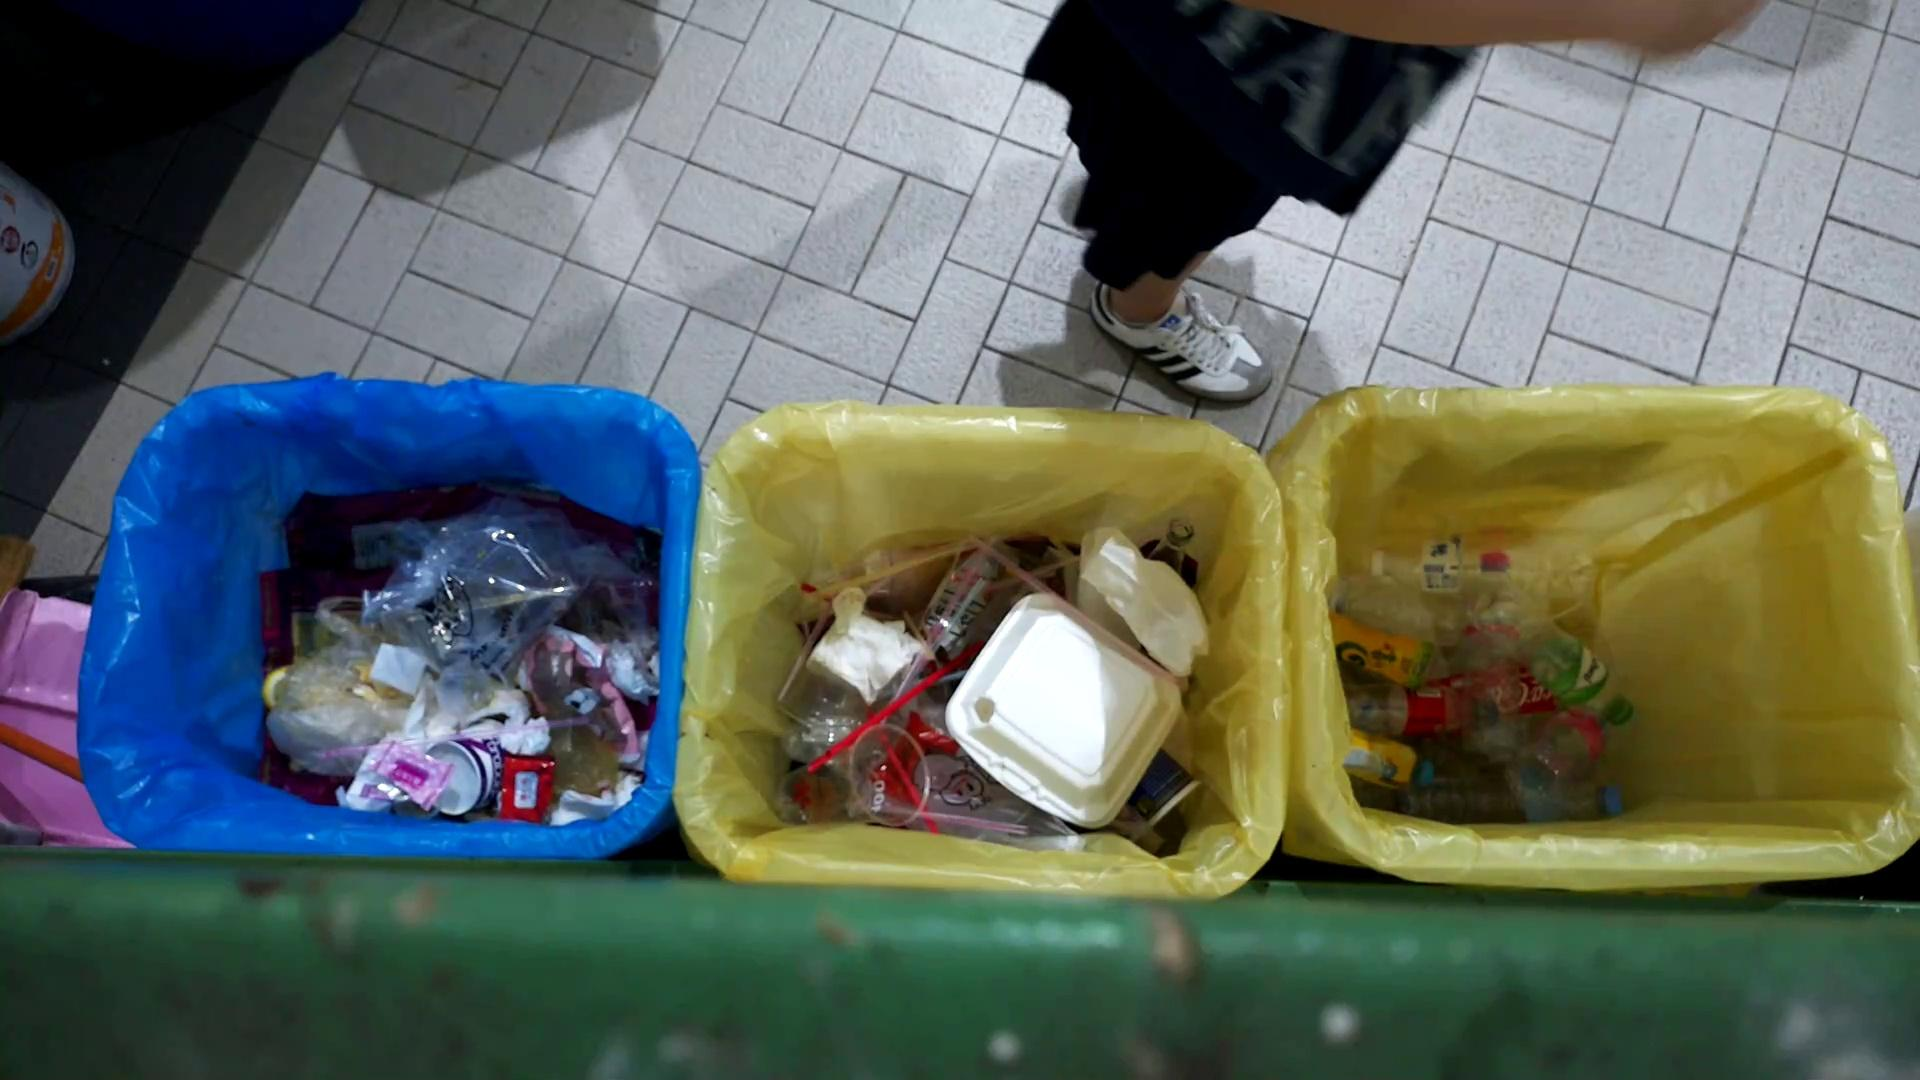filled plastic bag: (360, 498, 607, 683)
food container: (944, 593, 1184, 832), (413, 727, 509, 819)
plastic bag: (260, 592, 418, 777), (514, 620, 620, 737)
plastic bottle: (1453, 572, 1643, 724), (1365, 533, 1604, 600), (1447, 546, 1523, 749), (1486, 707, 1617, 799), (1324, 611, 1437, 690), (1344, 682, 1460, 737), (1345, 727, 1439, 793)
plastic cup: (775, 719, 928, 835)
snack packaging: (363, 737, 454, 811), (497, 756, 554, 828)
straw: (945, 524, 1174, 688), (799, 624, 989, 778), (898, 531, 998, 688), (804, 537, 994, 604), (874, 733, 943, 836), (918, 580, 993, 673), (874, 808, 1031, 836), (923, 641, 1013, 686), (993, 546, 1083, 589)
tissue paper: (1083, 531, 1209, 683), (808, 582, 920, 703), (588, 630, 659, 699), (559, 778, 637, 822), (371, 640, 427, 692), (502, 705, 542, 752)
